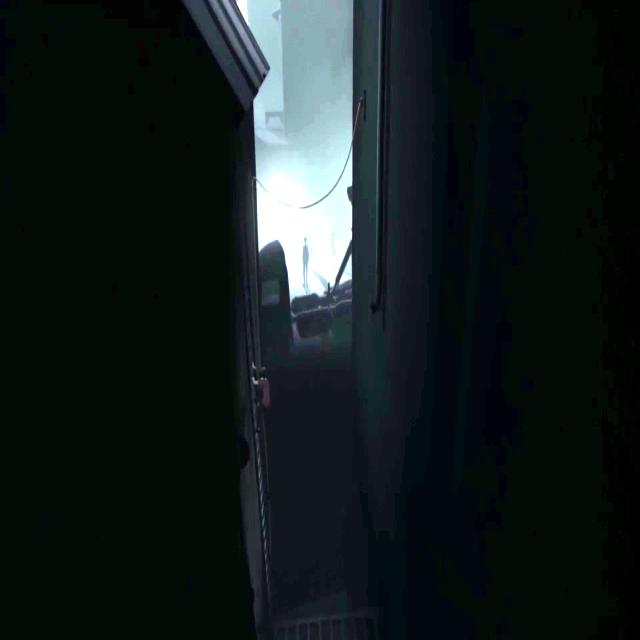boy: (251, 365, 270, 438)
zombie: (302, 237, 309, 287), (331, 233, 336, 265), (283, 233, 288, 259), (306, 228, 312, 244)
